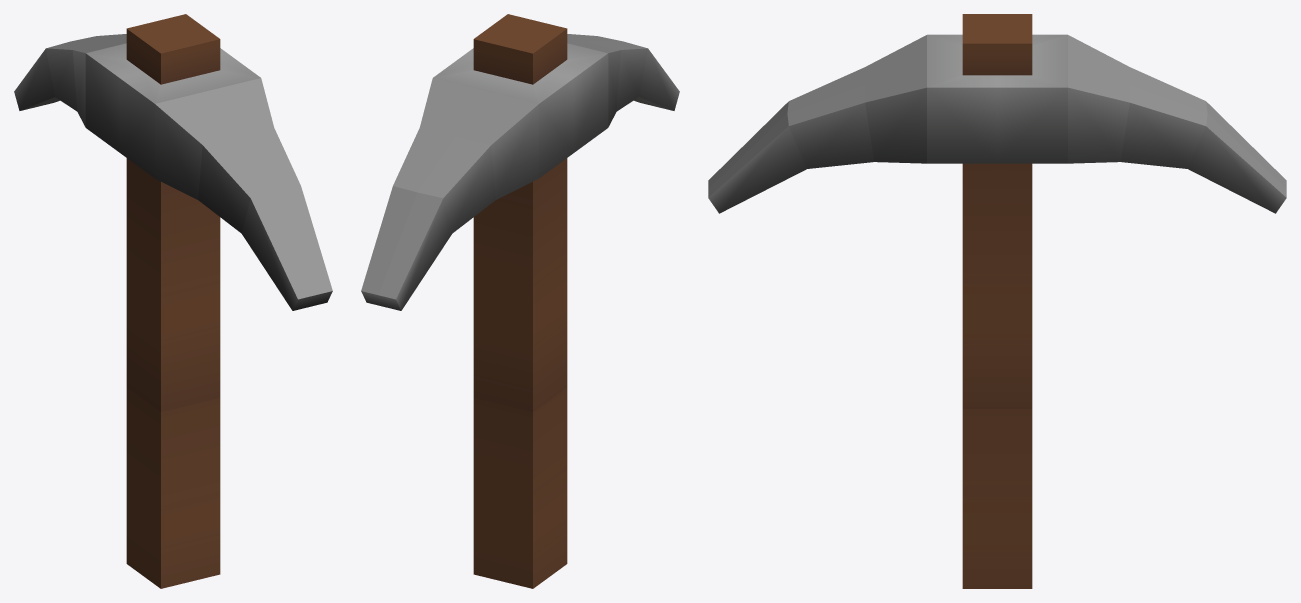
Rendered from Pickaxe.fbx.
3 renders of one model, left to right at view 1: azimuth 30°, elevation 25°; view 2: azimuth 150°, elevation 25°; view 3: azimuth 270°, elevation 25°, orthographic.
Visible parts, largest first — view 1: Pickaxe; view 2: Pickaxe; view 3: Pickaxe.
Part boxes in pixels (<box>): Pickaxe: <box>14,14,332,588</box>; Pickaxe: <box>361,14,679,588</box>; Pickaxe: <box>708,14,1286,588</box>.
Bounding box in the file's own units: 0.0817 × 0.3776 × 0.3927.
